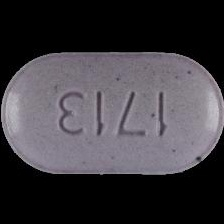0093-1713: (0, 0, 224, 224)
